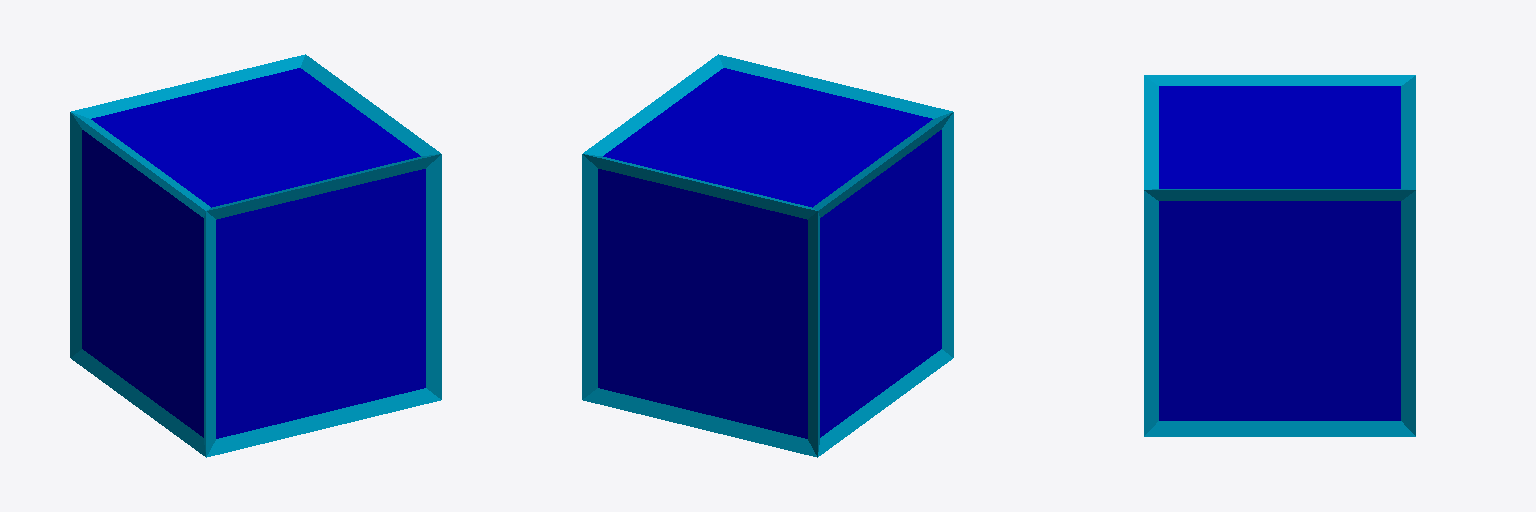
Rendered from cube2Blue.obj.
The picture shows the model from 3 angles: view 1: azimuth 30°, elevation 25°; view 2: azimuth 150°, elevation 25°; view 3: azimuth 270°, elevation 25°; orthographic projection.
Parts seen in each view (by area): view 1: Cube; view 2: Cube; view 3: Cube.
Part boxes in pixels (left/top/right/bottom): Cube: left=70, top=54, right=441, bottom=457; Cube: left=582, top=54, right=953, bottom=457; Cube: left=1144, top=75, right=1415, bottom=436.
Bounding box in the file's own units: 2.08 × 2.08 × 2.08.